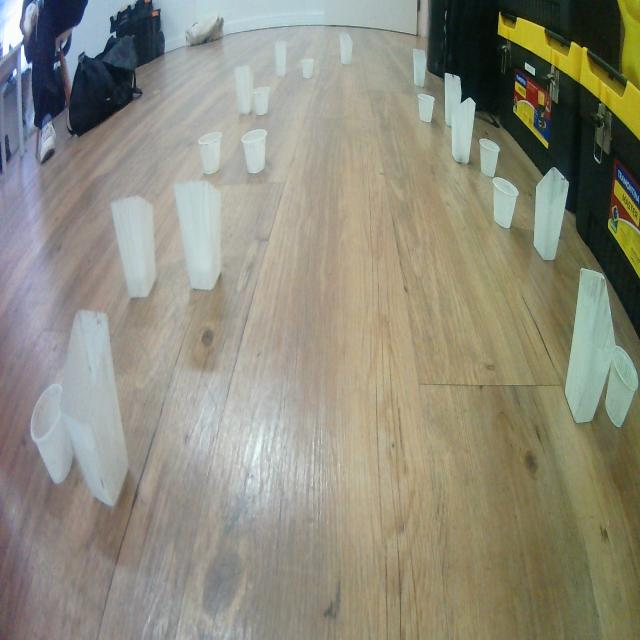erva_daninha: (60, 308, 128, 508), (564, 267, 616, 425), (173, 180, 222, 292), (110, 194, 157, 300), (533, 166, 570, 262), (451, 97, 476, 164), (444, 72, 462, 128), (235, 64, 254, 115), (412, 47, 427, 88), (339, 31, 353, 66), (275, 40, 287, 76)
planta: (29, 382, 74, 486), (604, 346, 640, 429), (492, 178, 520, 230), (241, 128, 267, 175), (198, 132, 222, 176), (478, 138, 501, 178), (417, 93, 435, 123), (252, 87, 270, 116), (301, 58, 314, 80)
